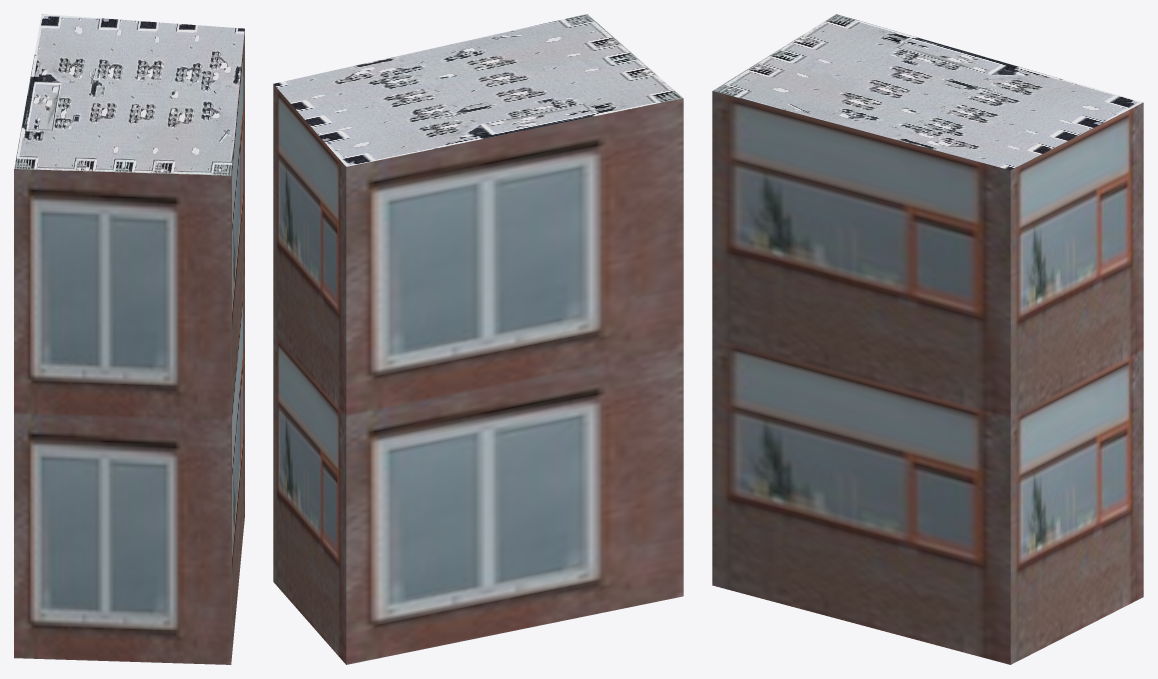
File: ResTex__2414.fbx
The picture shows the model from 3 angles, left to right: view 1: azimuth 30°, elevation 25°; view 2: azimuth 150°, elevation 25°; view 3: azimuth 270°, elevation 25°; orthographic projection.
Visible parts, largest first — view 1: CityEngineMaterial_19_m, CityEngineMaterial_15_m; view 2: CityEngineMaterial_19_m, CityEngineMaterial_15_m; view 3: CityEngineMaterial_19_m, CityEngineMaterial_15_m.
Boxes of the visible parts, bbox=[...] form: CityEngineMaterial_19_m: bbox=[14, 29, 244, 664]; CityEngineMaterial_15_m: bbox=[14, 14, 244, 175]; CityEngineMaterial_19_m: bbox=[273, 84, 683, 664]; CityEngineMaterial_15_m: bbox=[273, 14, 682, 166]; CityEngineMaterial_19_m: bbox=[712, 91, 1143, 664]; CityEngineMaterial_15_m: bbox=[713, 14, 1142, 170].
Bounding box in the file's own units: 4.07 × 6 × 4.74.
2 materials, 2 textured.
